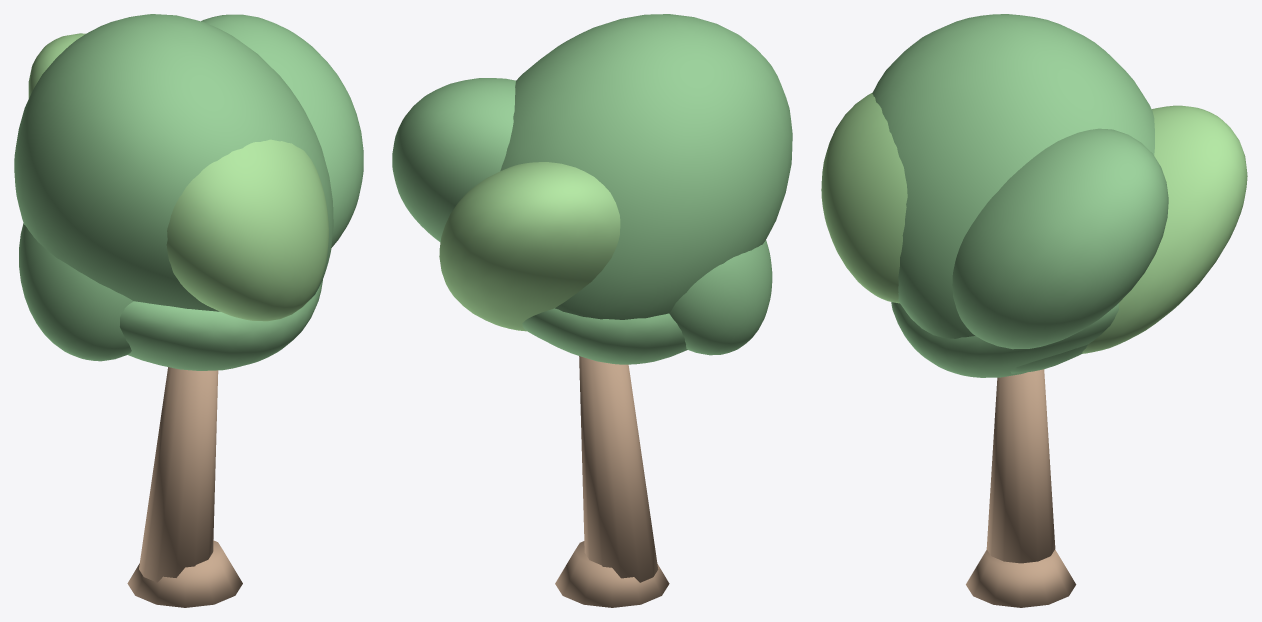
Rendered from tree_tall.glb.
3 renders of one model, left to right at view 1: azimuth 30°, elevation 25°; view 2: azimuth 150°, elevation 25°; view 3: azimuth 270°, elevation 25°, orthographic. The views are drawn at different scales.
Visible parts, largest first — view 1: tree_tall; view 2: tree_tall; view 3: tree_tall.
Boxes of the visible parts, x1,y1,x2,y2 form: tree_tall: (14,14,363,607); tree_tall: (392,14,792,607); tree_tall: (821,14,1247,607).
Bounding box in the file's own units: 3.71 × 5.94 × 4.24.
